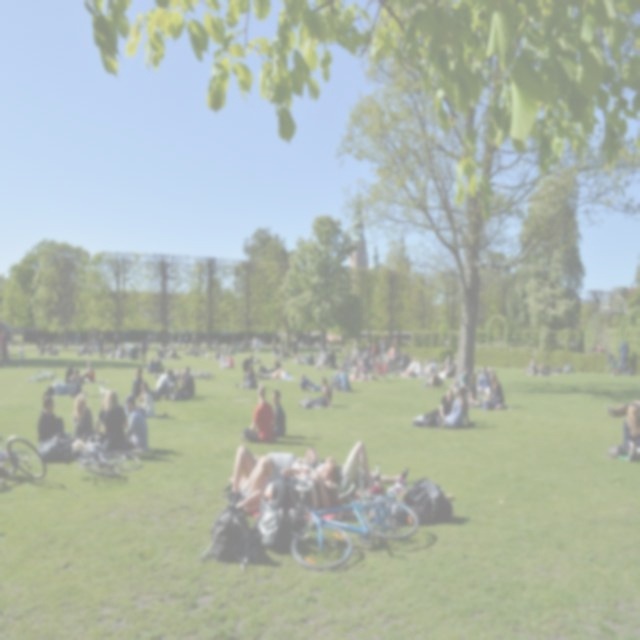pessoa: (136, 380, 318, 640), (222, 439, 411, 521), (338, 336, 398, 382), (35, 394, 73, 464), (240, 382, 279, 445), (398, 346, 458, 386), (102, 388, 130, 453), (439, 386, 475, 430), (125, 393, 148, 453), (620, 402, 640, 464), (72, 392, 95, 444), (198, 338, 246, 361), (521, 356, 576, 376), (136, 444, 186, 466), (42, 363, 74, 397), (252, 358, 296, 382), (146, 331, 182, 360), (102, 338, 140, 361), (311, 376, 333, 410), (605, 398, 640, 418), (487, 373, 505, 411), (272, 390, 286, 438), (74, 331, 98, 358), (155, 368, 174, 401), (438, 386, 456, 419), (94, 396, 106, 444), (467, 372, 483, 408), (180, 366, 196, 399), (68, 368, 84, 398), (175, 370, 191, 400), (618, 338, 630, 376), (334, 367, 352, 392), (478, 366, 492, 396), (131, 366, 144, 398), (300, 373, 323, 391), (36, 338, 59, 356), (330, 365, 344, 391), (168, 366, 180, 396), (458, 367, 469, 398), (299, 338, 333, 348), (0, 329, 8, 370), (82, 361, 95, 384), (139, 334, 148, 367), (153, 355, 165, 375), (251, 336, 262, 357), (292, 353, 309, 366), (242, 358, 250, 383), (270, 347, 290, 357), (98, 332, 105, 360), (246, 363, 256, 382), (18, 341, 25, 368), (248, 336, 266, 346), (475, 365, 497, 373), (218, 352, 227, 370), (512, 337, 532, 345), (182, 348, 198, 358), (114, 333, 120, 358), (148, 356, 156, 373), (352, 362, 359, 381), (225, 354, 234, 368), (293, 337, 298, 361), (314, 360, 326, 370), (590, 343, 602, 353), (307, 351, 315, 365), (191, 333, 196, 351), (280, 336, 285, 354), (249, 352, 256, 364), (571, 336, 579, 346), (184, 334, 188, 352), (556, 338, 564, 347), (495, 336, 502, 344), (272, 336, 276, 346)
